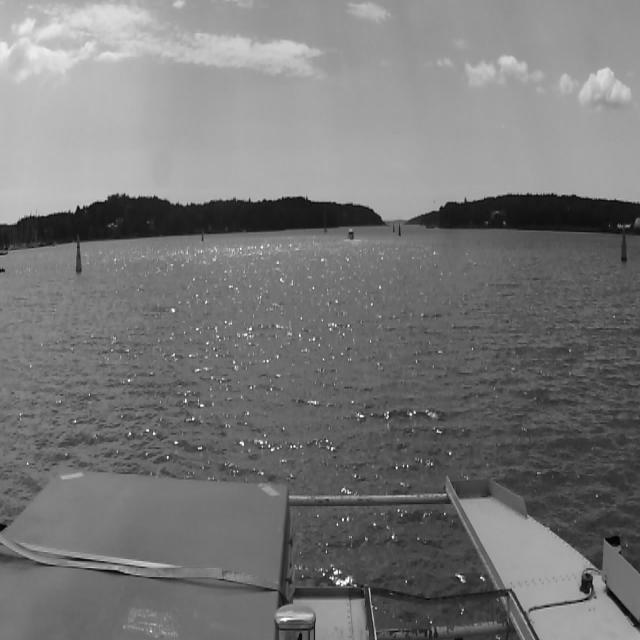buoy: (75, 235, 81, 272), (622, 227, 626, 261), (201, 220, 205, 242), (398, 220, 400, 237)
ship: (349, 229, 353, 239)
